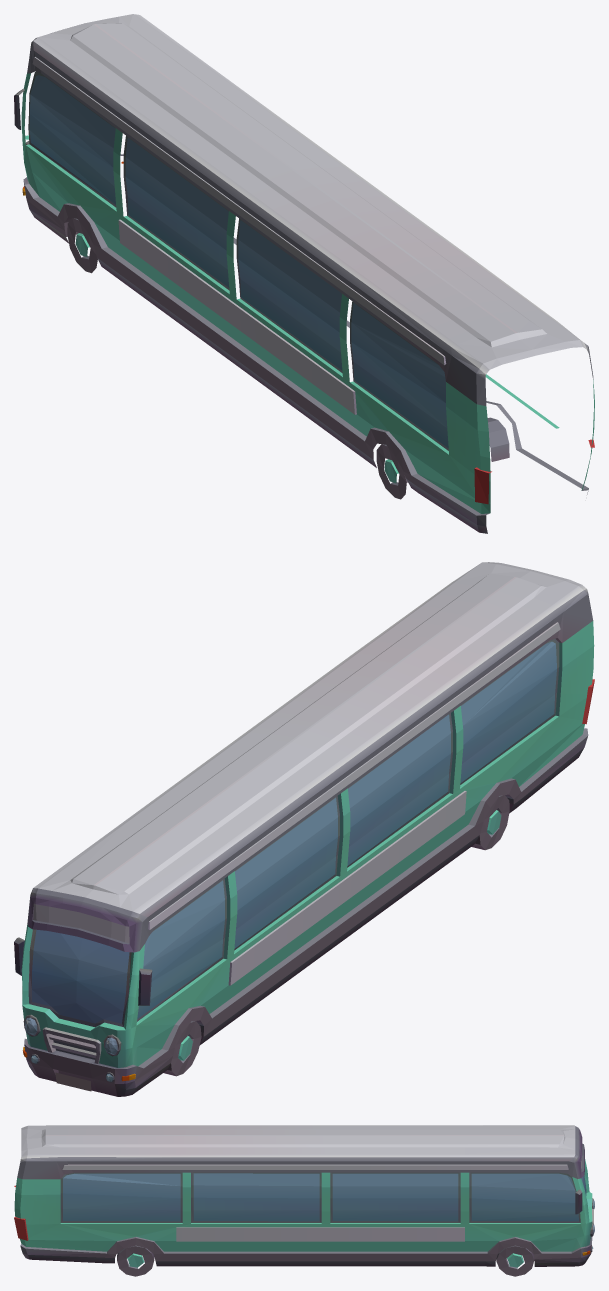
File: city_double8_bus02.glb
3 renders of one model, top to bottom at view 1: azimuth 30°, elevation 25°; view 2: azimuth 150°, elevation 25°; view 3: azimuth 270°, elevation 25°, orthographic. The views are drawn at different scales.
Visible parts, largest first — view 1: city_double8_bus02; view 2: city_double8_bus02; view 3: city_double8_bus02.
Boxes of the visible parts, x1,y1,x2,y2 form: city_double8_bus02: (14, 14, 594, 533); city_double8_bus02: (14, 562, 594, 1096); city_double8_bus02: (14, 1125, 594, 1276).
Size of the model in its own units: 1.32 by 1.9 by 7.89.
